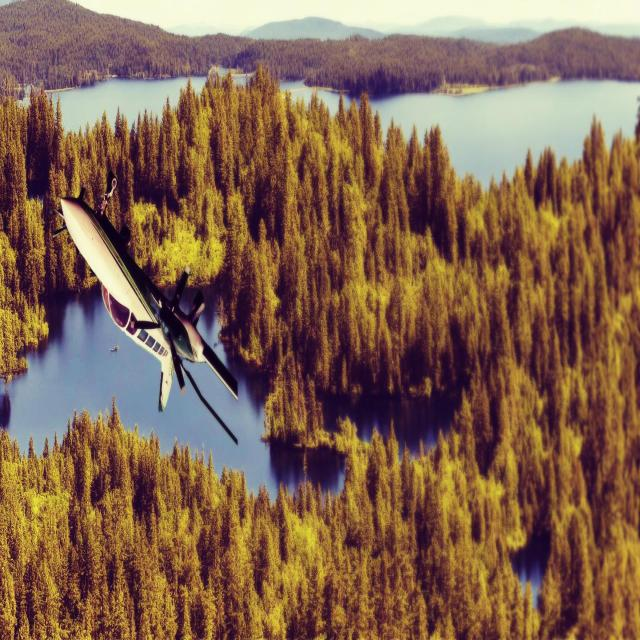airplane: (51, 175, 239, 422)
